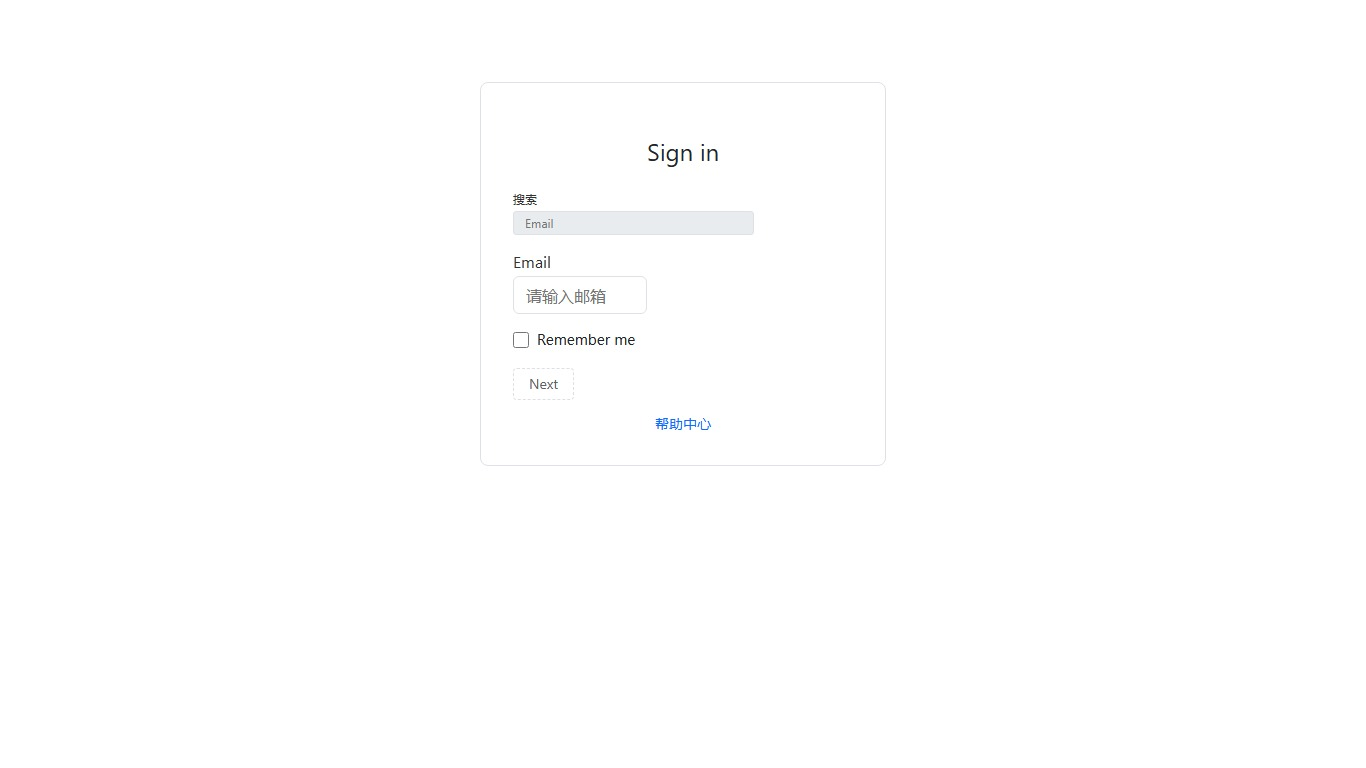button: (513, 368, 574, 400)
checkbox: (513, 332, 529, 348)
icon: (537, 330, 635, 349)
input: (513, 211, 754, 235), (513, 276, 647, 314)
link: (655, 414, 711, 433)
radio: (513, 330, 635, 349)
